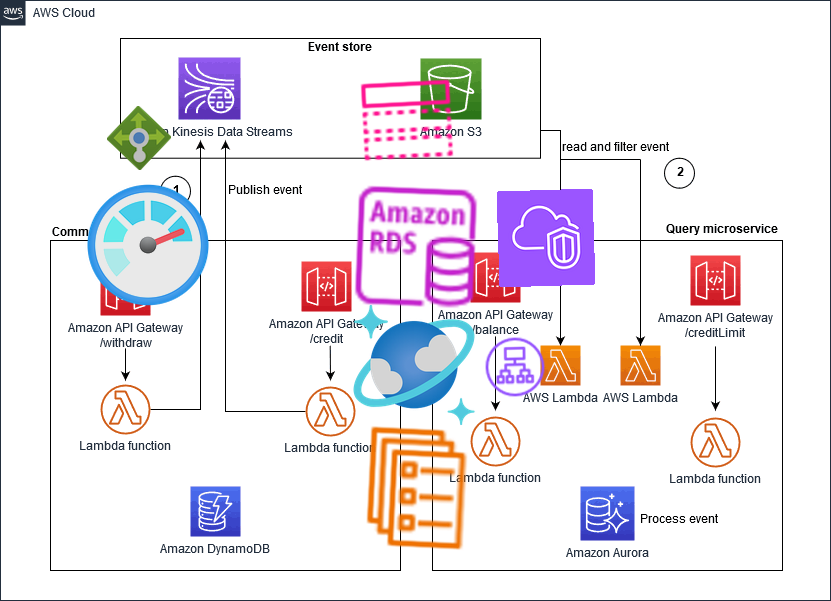aws_amazon_virtual_private_cloud: (496, 188, 596, 288)
aws_aurora_amazon_rds_instance: (349, 180, 483, 314)
aws_elastic_container_service_service: (349, 420, 485, 556)
aws_elastic_load_balancing_application_load_balancer: (482, 334, 548, 400)
aws_simple_notification_service_topic: (356, 69, 458, 171)
azure_cosmos_db: (349, 300, 479, 430)
azure_load_balancers: (106, 105, 172, 171)
azure_monitor: (83, 180, 213, 310)
